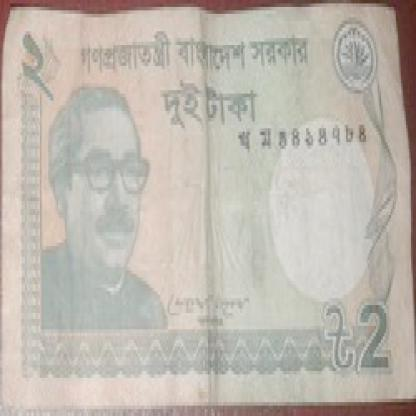two taka: (323, 294, 403, 398), (15, 24, 67, 114)
